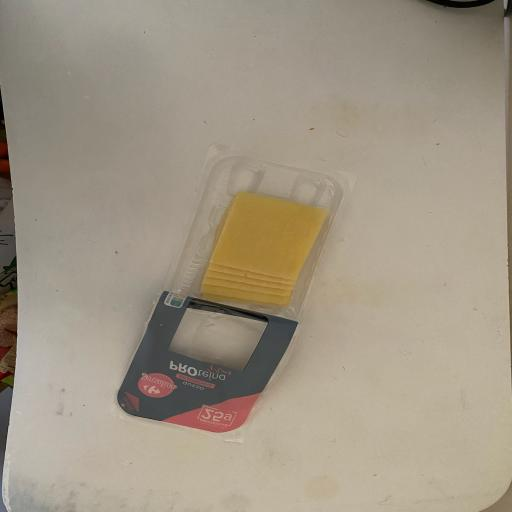cheese: (108, 119, 368, 462)
